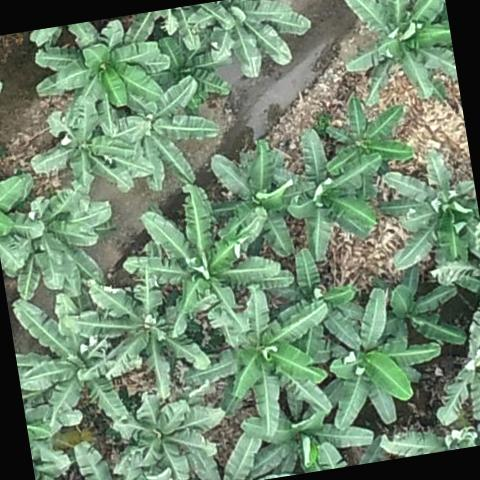Banana-plant: (110, 182, 288, 338), (187, 288, 339, 445), (312, 282, 448, 426), (70, 274, 212, 410), (12, 288, 128, 434), (278, 124, 396, 264), (204, 135, 316, 266), (29, 15, 169, 118), (108, 68, 228, 188), (0, 181, 123, 294), (338, 0, 460, 111), (378, 151, 480, 269), (111, 384, 232, 480), (24, 106, 146, 199), (238, 404, 377, 480), (186, 0, 318, 80), (425, 293, 480, 450), (149, 26, 238, 116), (326, 94, 420, 175), (385, 266, 468, 350)
